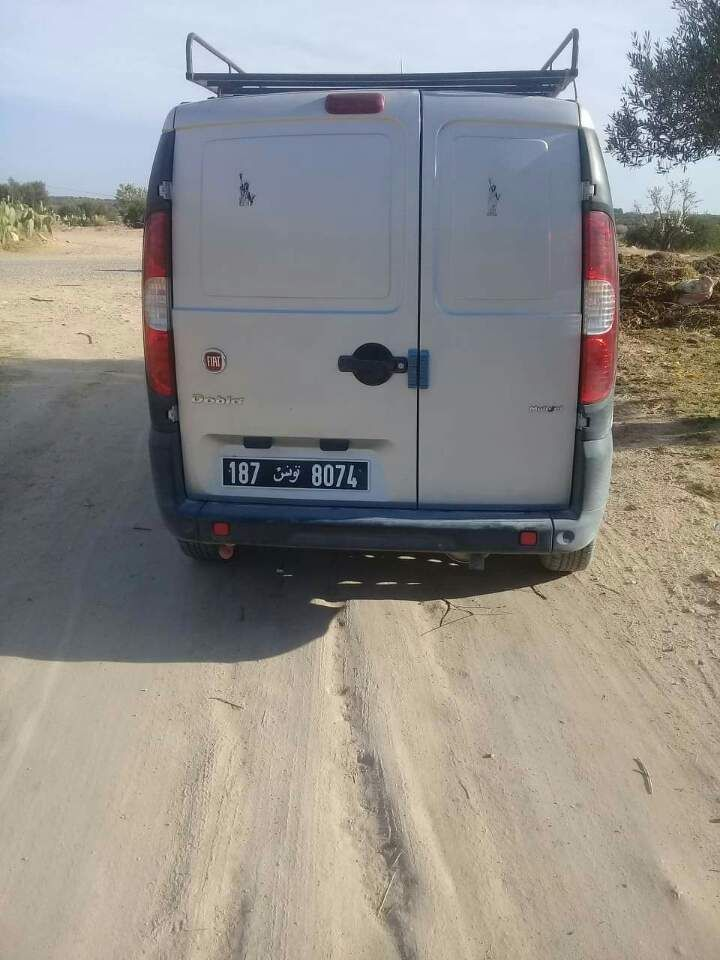LP: (221, 455, 374, 494)
